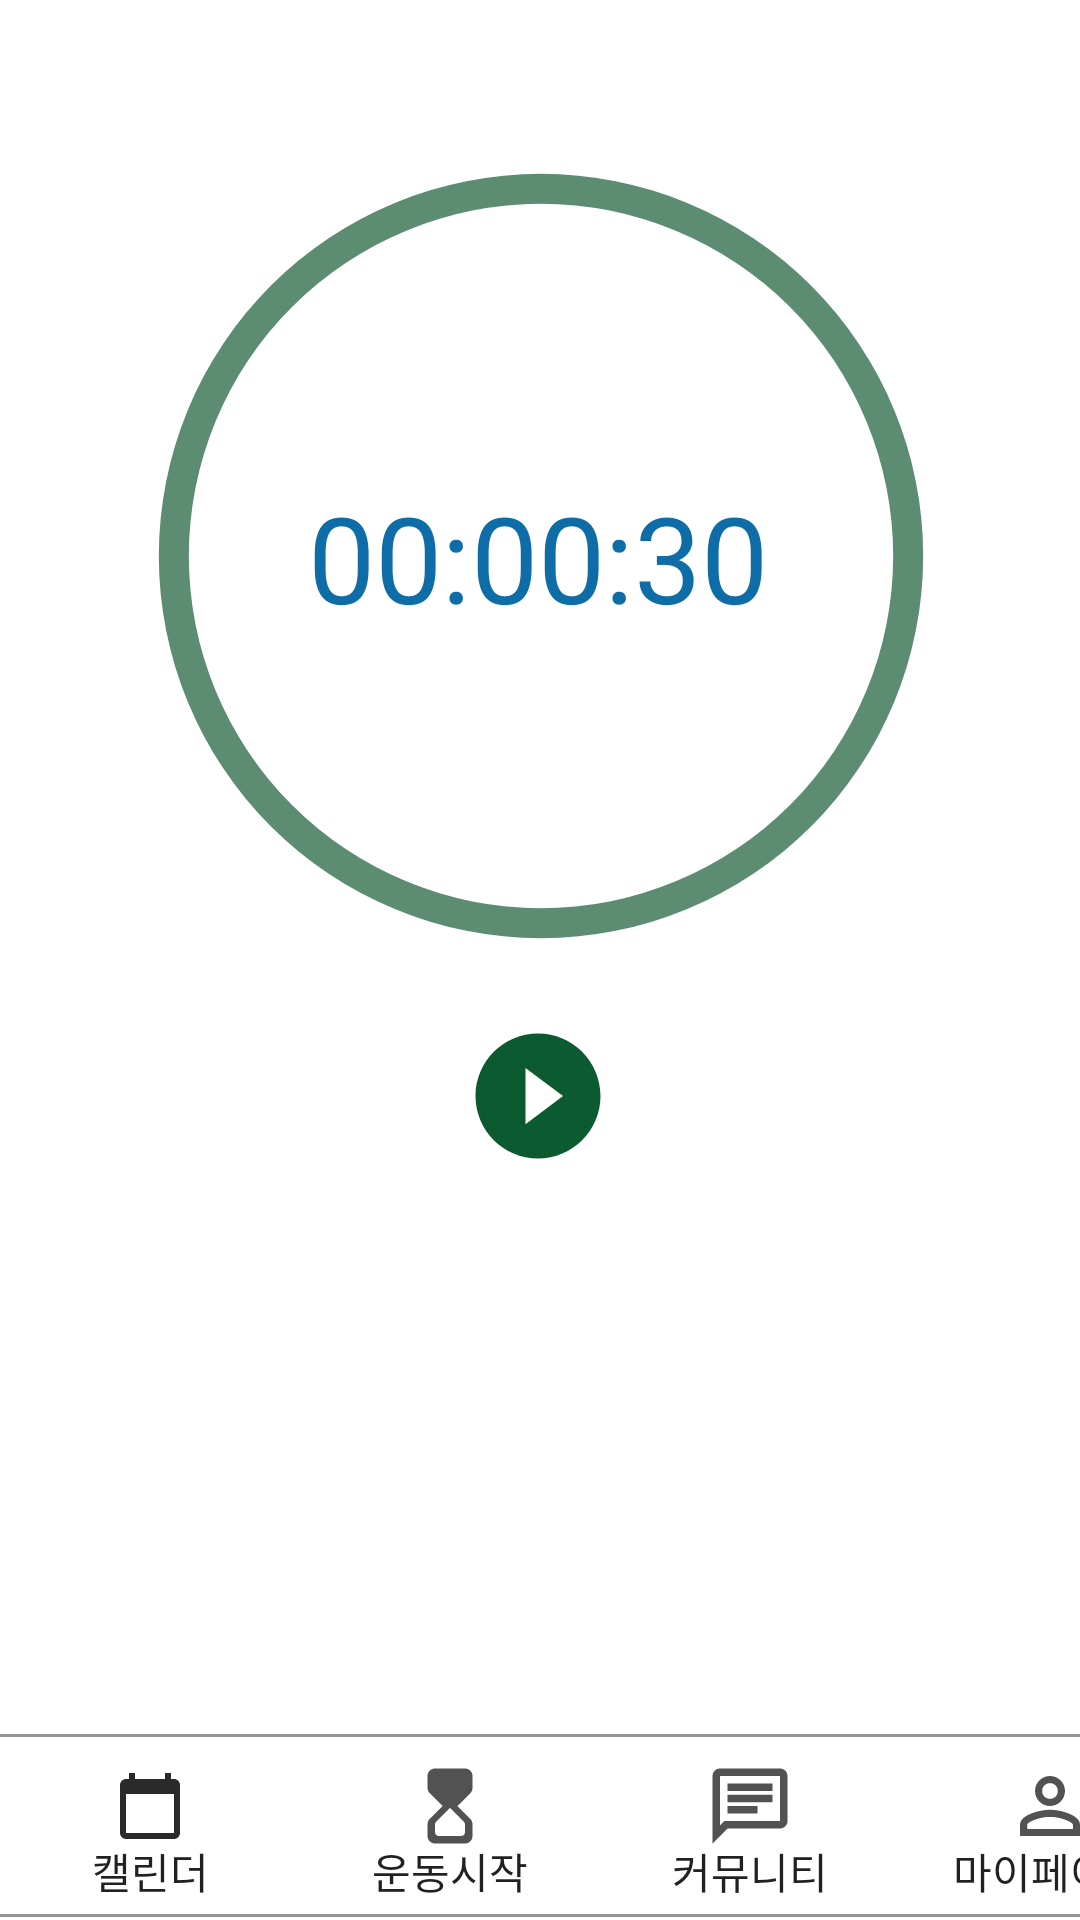

Named icons in this screenshot (1080x1920) and their centers, point (x, y):
play circle: point (538, 1096)
